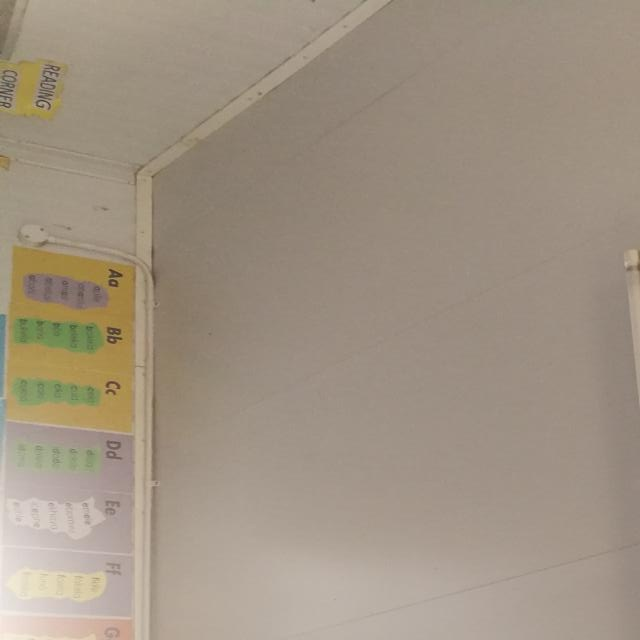fluorescent tube: (557, 213, 640, 640)
